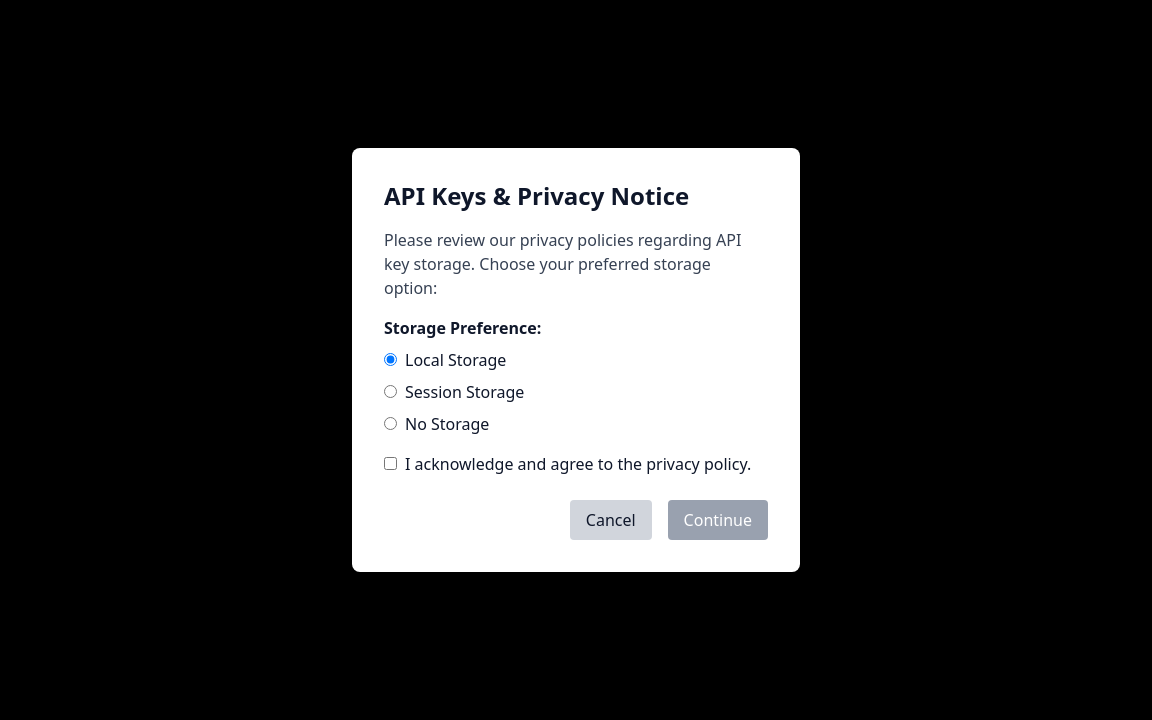
Scenario: ConsentModal › allows changing storage option
Click the radio button labelled "Session Storage": (390, 392) x1=384 y1=385 x2=397 y2=398
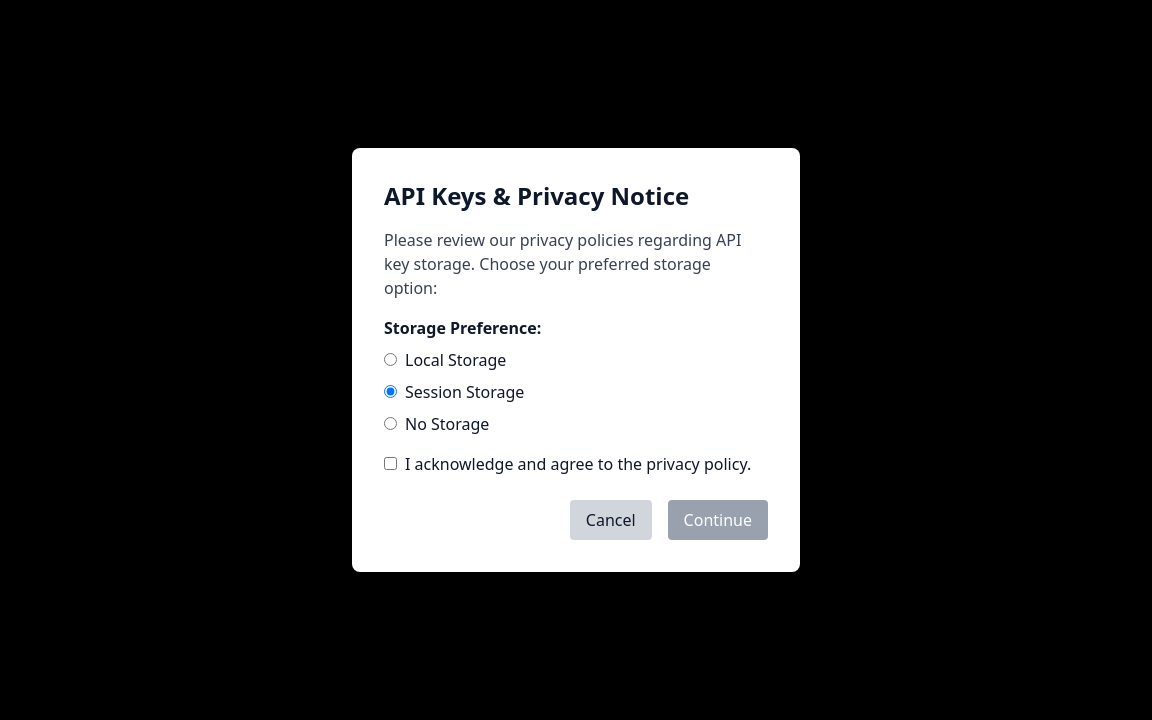
Check: the radio button labelled "Session Storage" is checked, box x1=384 y1=385 x2=397 y2=398
Check: the radio button labelled "Local Storage" is not checked, box x1=384 y1=353 x2=397 y2=366
